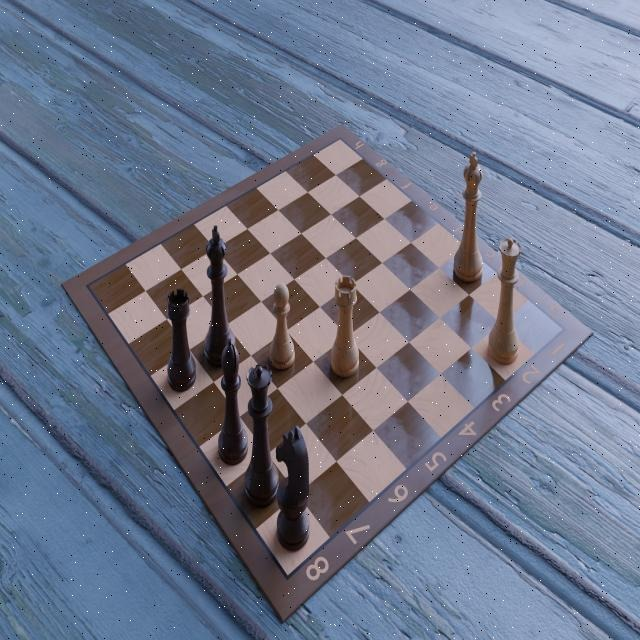black-bishop: (215, 337, 250, 467)
black-king: (200, 222, 238, 370)
black-knight: (273, 421, 312, 555)
black-queen: (242, 359, 282, 512)
black-rook: (165, 284, 199, 396)
white-king: (451, 147, 485, 285)
white-pawn: (266, 280, 297, 373)
white-queen: (485, 230, 522, 370)
white-rook: (328, 271, 362, 380)
